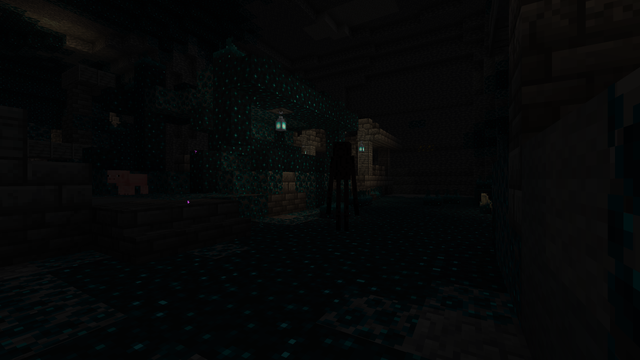cochons: (119, 173, 148, 195)
endermens: (329, 138, 353, 233)
